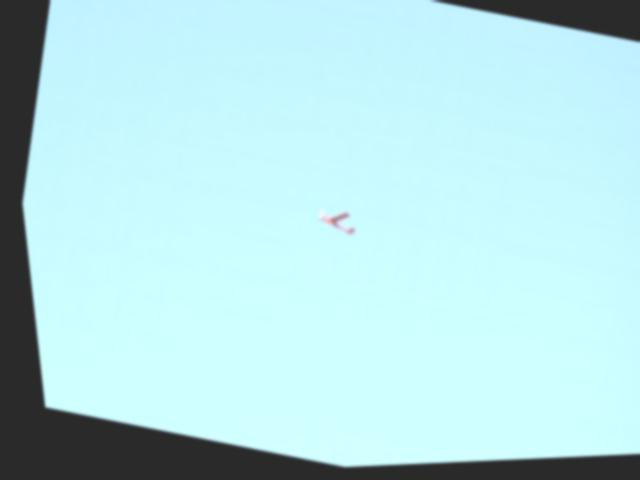iha: (297, 196, 359, 246)
